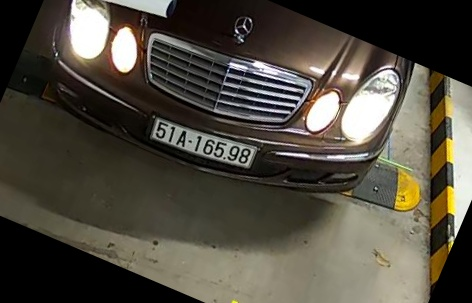plate: (137, 108, 260, 171)
